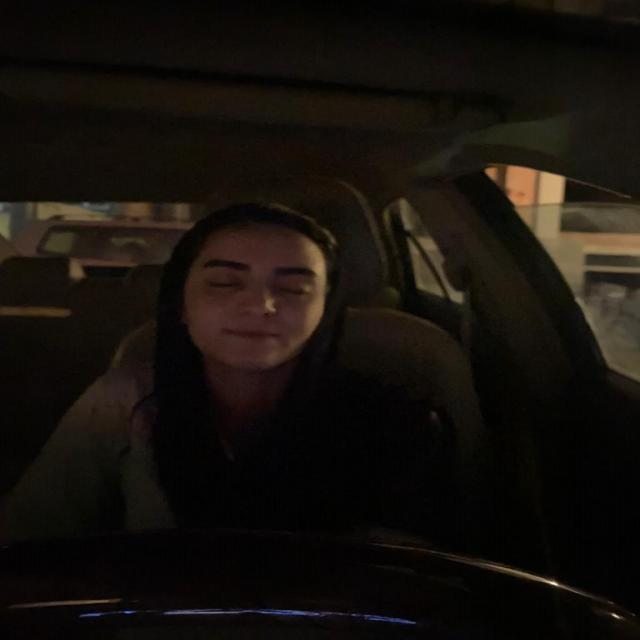drowsy: (180, 222, 330, 371)
